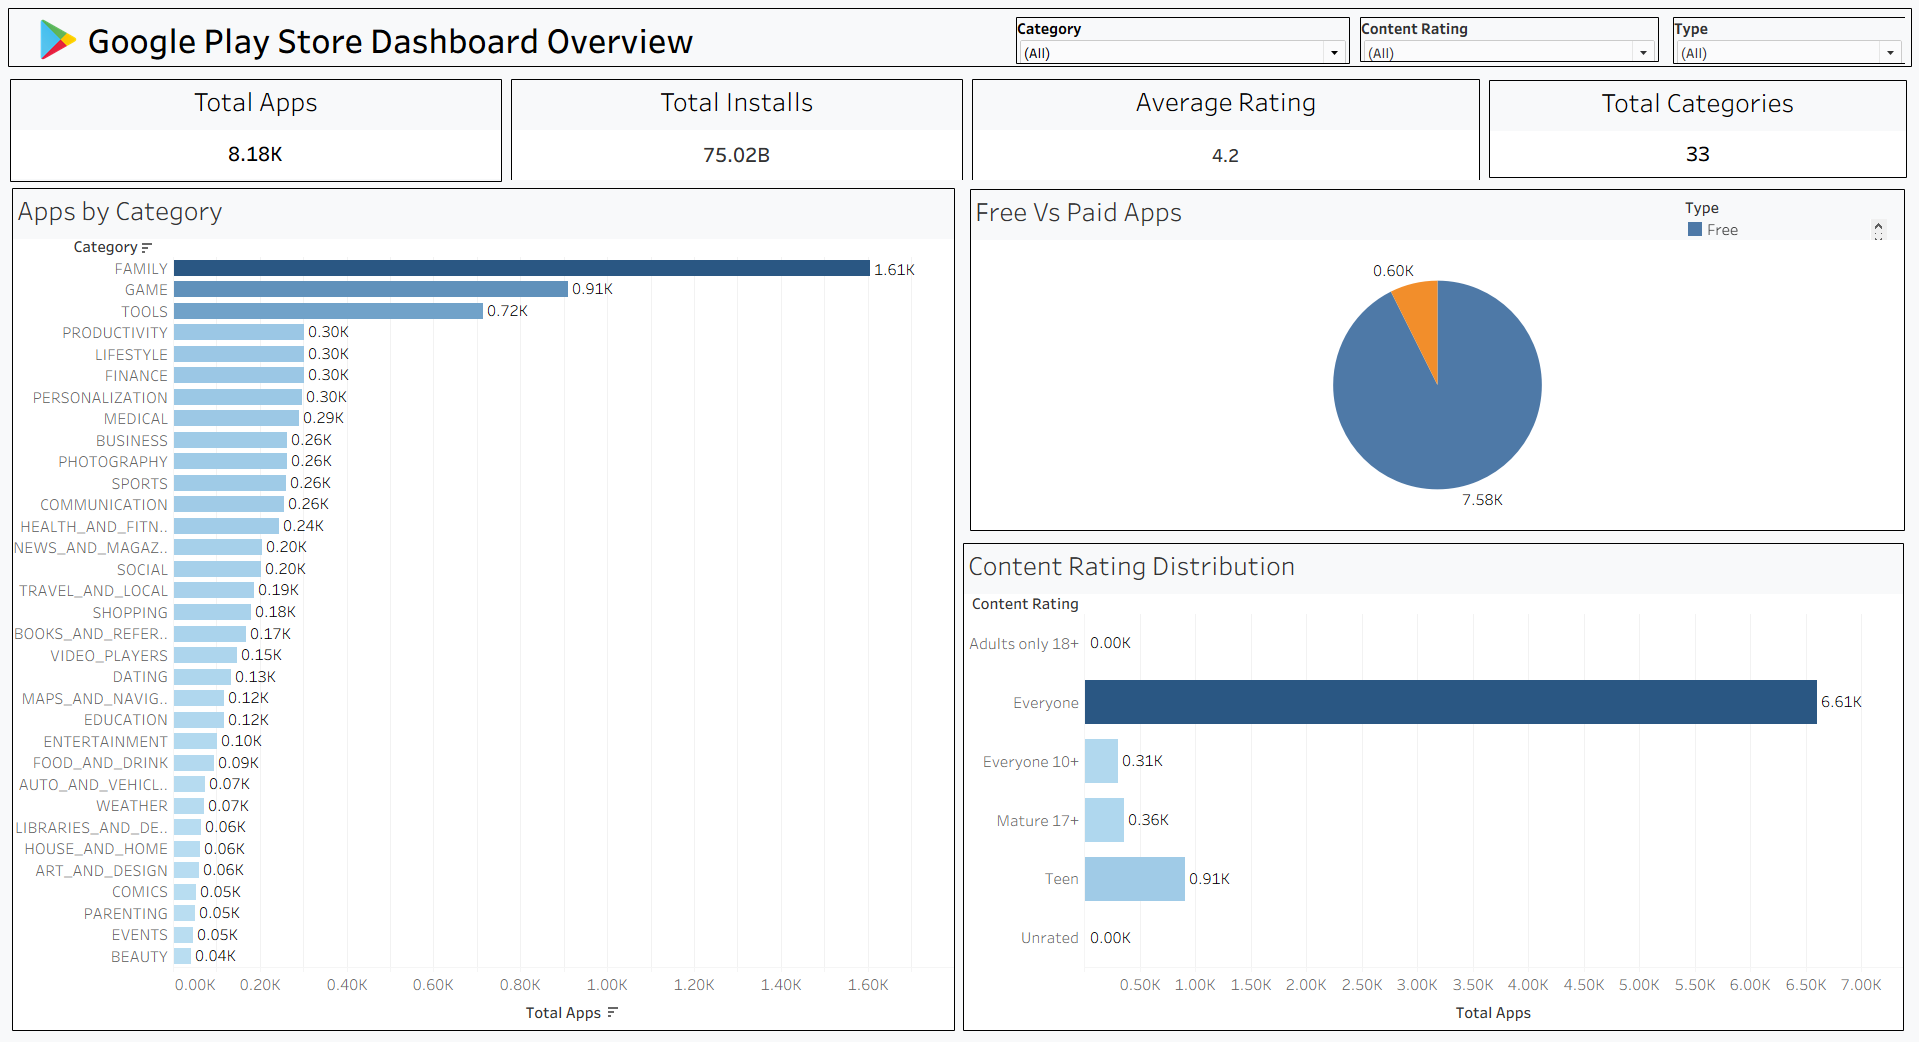

What the dashboard file says about the page in this screenshot:
{"tool":"tableau","page":{"name":"Overview","canvas":[1000,1000],"units":"permille","ordinal":1},"visuals":[{"type":"text","box":[43.9,13.9,478,46.5]},{"type":"image","param":"C:/Users/DELL/Downloads/google-play-logo-png_seeklogo-318439-removebg-preview.pn","box":[18.8,16.3,35.7,41.8]},{"type":"filter","title":"KPI Total Apps","param":"[federated.0rvsowf13khu5d18i3vno1nwu3qx].[none:Category:nk]","box":[529,16.3,174,45.3]},{"type":"filter","title":"KPI Total Installs","param":"[federated.0rvsowf13khu5d18i3vno1nwu3qx].[none:Content Rating:nk]","box":[708.3,16.3,155.8,43]},{"type":"filter","title":"KPI Total Installs","param":"[federated.0rvsowf13khu5d18i3vno1nwu3qx].[none:Type:nk]","box":[871.1,16.3,121.3,45.3]},{"type":"worksheet","title":"KPI Total Apps","mark":"Automatic","box":[5.3,75.5,256,98.7]},{"type":"worksheet","title":"KPI Total Installs","mark":"Automatic","box":[266,75.5,235.5,97.6]},{"type":"worksheet","title":"KPI Average Rating","mark":"Automatic","box":[506.3,75.5,264.3,97.6]},{"type":"worksheet","title":"Total Categories","mark":"Automatic","box":[775.6,76.7,217.9,94.1]},{"type":"worksheet","title":"Apps by Category","mark":"Bar","rows":["Category"],"cols":["Calculation_0998958022668289"],"box":[6,180,491.2,808.4]},{"type":"worksheet","title":"Free Vs Paid Apps","mark":"Pie","box":[505.1,181.2,487,327.5]},{"type":"legend","title":"Free Vs Paid Apps","param":"[federated.0rvsowf13khu5d18i3vno1nwu3qx].[none:Type:nk]","box":[877.5,189.3,106.2,48.8]},{"type":"worksheet","title":"Content Rating Distribution","mark":"Automatic","rows":["Content Rating"],"cols":["Calculation_0998958022668289"],"box":[501.5,520.3,490,468.1]}]}

Visuals, with their boxes on the dashboard's canvas, which has no fixed pixel size, in thousandths of its width and height (x1, y1, x2, y2). These are canvas units, not pixel positions in the 1919x1042 screenshot, which may show the page scaled, cropped or inside an application window:
text: (44, 14, 522, 60)
image: (19, 16, 54, 58)
"KPI Total Apps" filter: (529, 16, 703, 62)
"KPI Total Installs" filter: (708, 16, 864, 59)
"KPI Total Installs" filter: (871, 16, 992, 62)
"KPI Total Apps" worksheet: (5, 76, 261, 174)
"KPI Total Installs" worksheet: (266, 76, 502, 173)
"KPI Average Rating" worksheet: (506, 76, 771, 173)
"Total Categories" worksheet: (776, 77, 994, 171)
"Apps by Category" worksheet (Bar marks): (6, 180, 497, 988)
"Free Vs Paid Apps" worksheet (Pie marks): (505, 181, 992, 509)
"Free Vs Paid Apps" legend: (878, 189, 984, 238)
"Content Rating Distribution" worksheet: (502, 520, 992, 988)
